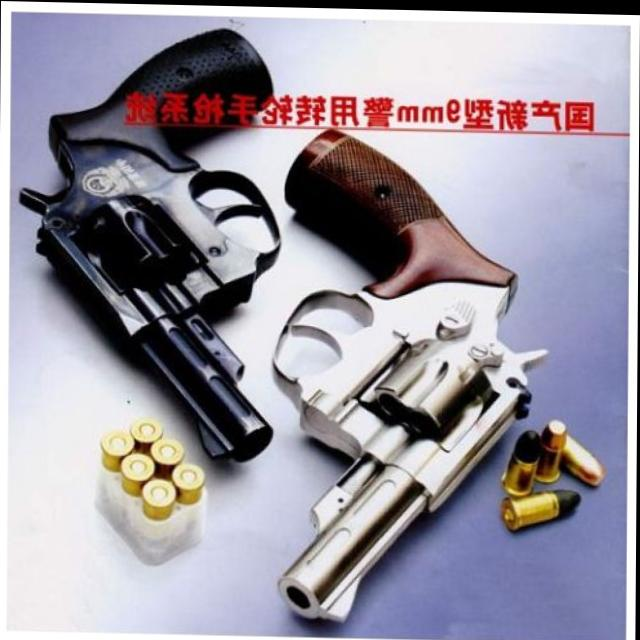handgun: (274, 119, 552, 626), (17, 21, 282, 461)
